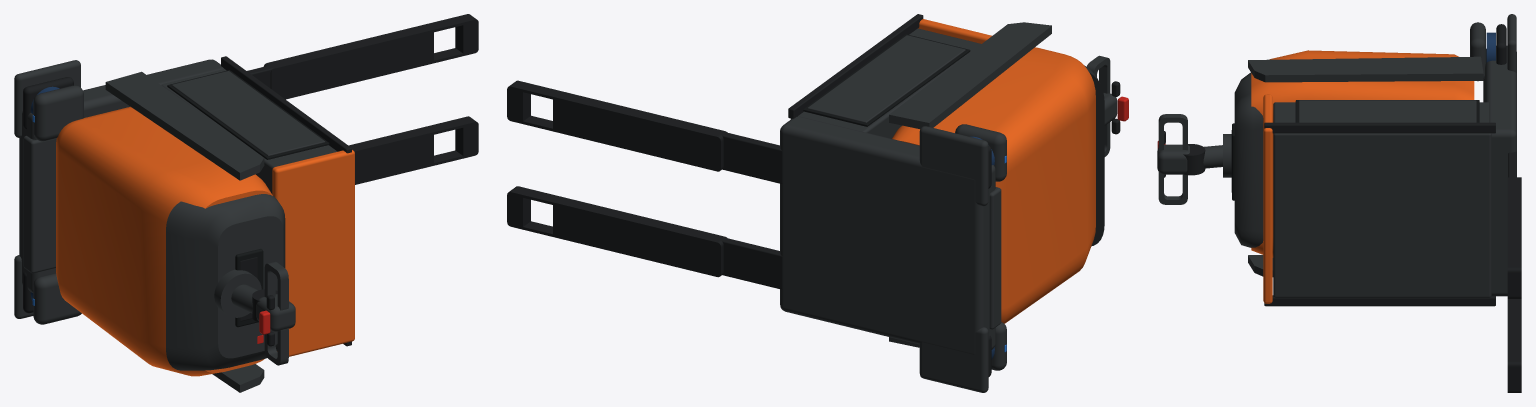
3 views of the same model, side by side, from view 1: azimuth 30°, elevation 25°; view 2: azimuth 150°, elevation 25°; view 3: azimuth 270°, elevation 25° (orthographic). The views are drawn at different scales.
Parts seen in each view (by area): view 1: drive_cover, sculpted_operator_console, battery_lid, support_arm_left, drive_side_guard_1, battery_panel_inset_1, support_arm_right, rear_lower_crossmember, chassis_core, rear_scanner_hood_1, battery_edge_1, rear_scanner_hood_-1 (+12 smaller); view 2: chassis_core, drive_cover, support_arm_left, support_arm_right, drive_side_guard_1, battery_panel_inset_1, rear_scanner_bumper_1, rear_scanner_bumper_-1, support_root_yoke_-1, support_root_yoke_1, battery_bay, rear_lower_crossmember (+7 smaller); view 3: battery_bay, drive_cover, drive_side_guard_1, chassis_core, sculpted_operator_console, battery_panel_inset_1, battery_edge_1, battery_edge_-1, battery_lid, support_arm_left, support_arm_right, tiller_head_spine (+9 smaller).
Part boxes in pixels (box(x1,y1,x2,y2)): drive_cover: box(56, 106, 272, 376); sculpted_operator_console: box(166, 194, 285, 370); battery_lid: box(272, 150, 354, 356); support_arm_left: box(263, 14, 478, 99); drive_side_guard_1: box(105, 71, 264, 180); battery_panel_inset_1: box(172, 71, 325, 155); support_arm_right: box(348, 116, 478, 184); rear_lower_crossmember: box(23, 135, 56, 273); chassis_core: box(19, 59, 223, 292); rear_scanner_hood_1: box(33, 85, 83, 141); battery_edge_1: box(221, 56, 351, 153); rear_scanner_hood_-1: box(33, 273, 81, 324); chassis_core: box(780, 116, 995, 354); drive_cover: box(892, 47, 1095, 323); support_arm_left: box(507, 80, 727, 171); support_arm_right: box(507, 186, 726, 277); drive_side_guard_1: box(889, 22, 1051, 128); battery_panel_inset_1: box(807, 35, 965, 122); rear_scanner_bumper_1: box(919, 126, 988, 206); rear_scanner_bumper_-1: box(919, 327, 988, 392); support_root_yoke_-1: box(717, 236, 782, 289); support_root_yoke_1: box(720, 132, 782, 183); battery_bay: box(790, 28, 981, 138); rear_lower_crossmember: box(989, 187, 1001, 329); battery_bay: box(1273, 102, 1491, 297); drive_cover: box(1251, 50, 1474, 257); drive_side_guard_1: box(1248, 56, 1483, 82); chassis_core: box(1485, 46, 1516, 296); sculpted_operator_console: box(1234, 72, 1263, 247); battery_panel_inset_1: box(1299, 100, 1476, 122); battery_edge_1: box(1264, 122, 1495, 133); battery_edge_-1: box(1264, 295, 1495, 306); battery_lid: box(1263, 94, 1272, 303); support_arm_left: box(1507, 177, 1521, 298); support_arm_right: box(1507, 299, 1521, 392); tiller_head_spine: box(1157, 144, 1189, 174).
Bounding box in the file's own units: 1.84 × 0.93 × 1.37.
